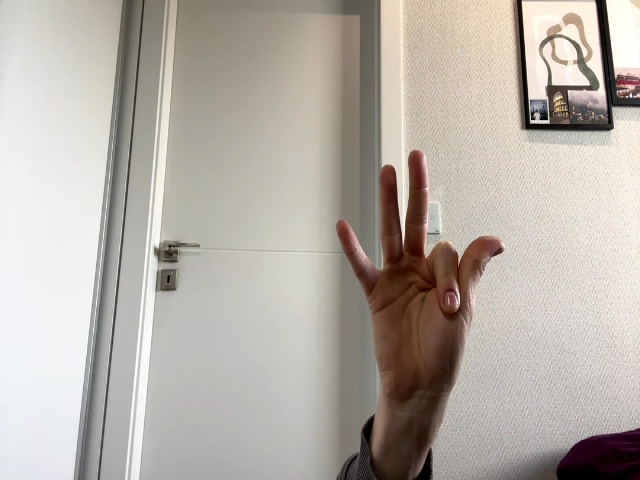F: (337, 149, 504, 392)
